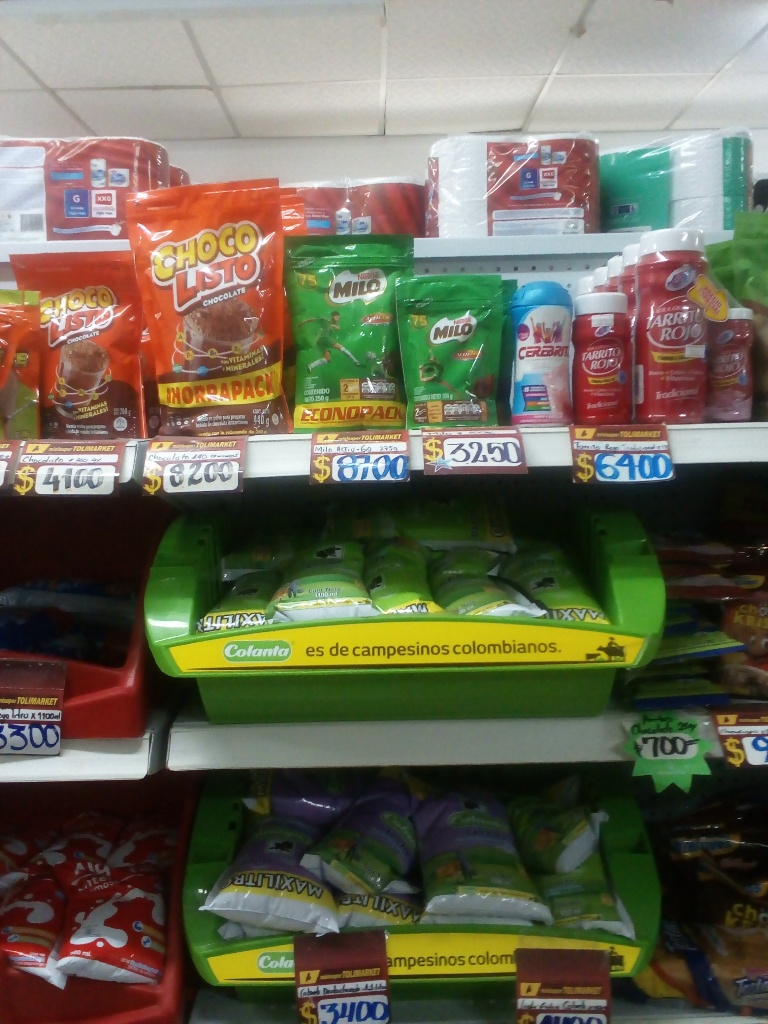COL0170103DYP44000: (124, 187, 294, 432)
COL0170203DYP10000: (394, 270, 512, 428)
